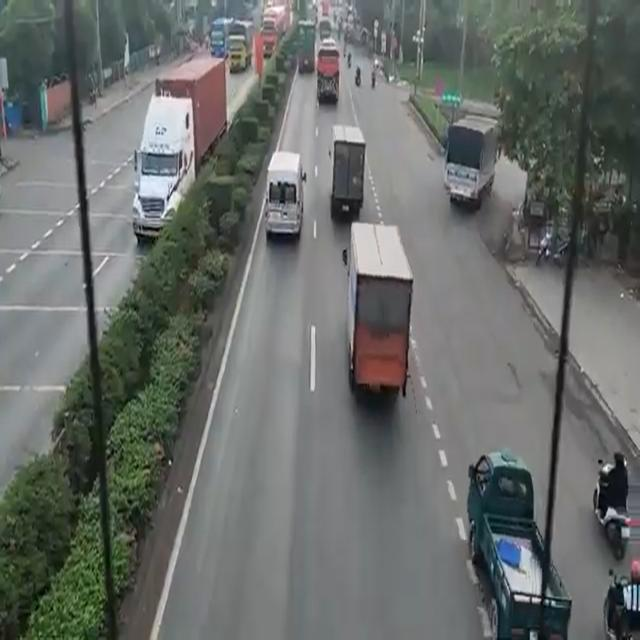car: (268, 145, 302, 246)
motor: (588, 463, 627, 549)
truck: (465, 445, 562, 640), (133, 52, 225, 239), (350, 216, 402, 402), (449, 114, 497, 208), (329, 117, 365, 214), (319, 48, 338, 106)
